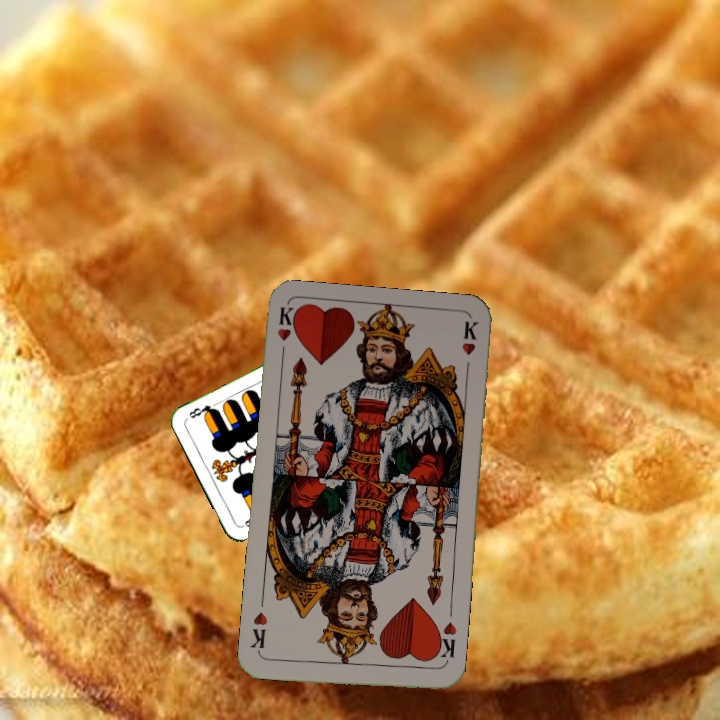HK: (273, 304, 300, 363), (431, 618, 459, 668)
